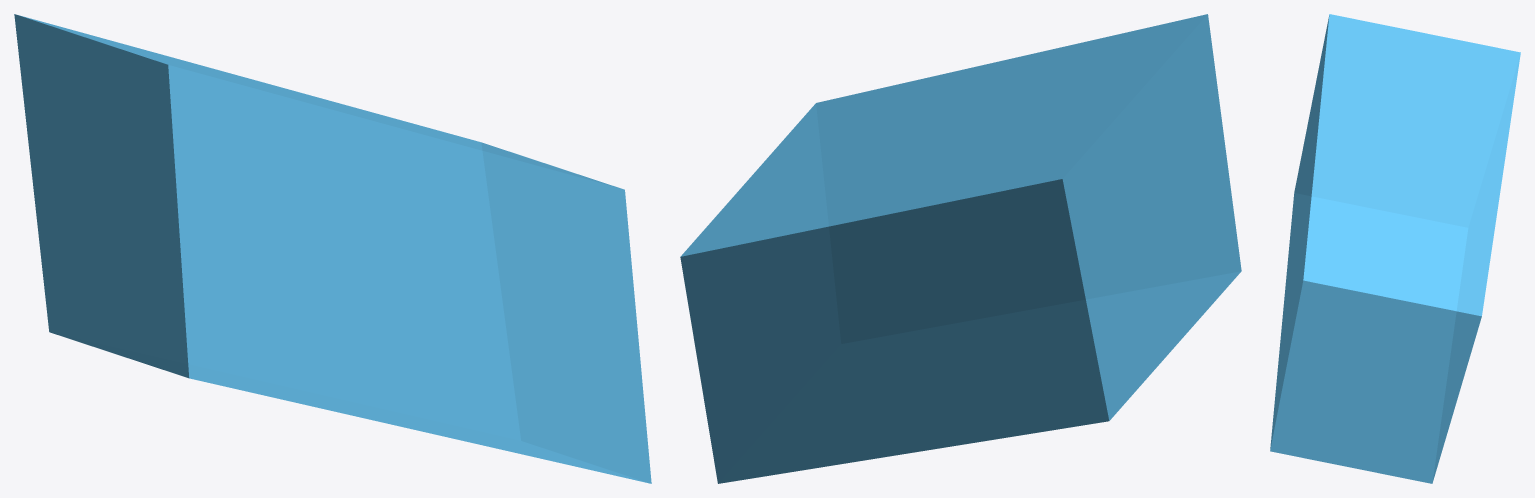
The model's file is Event_421115418_HErechit_79.fbx.
3 views of the same model, side by side, from view 1: azimuth 30°, elevation 25°; view 2: azimuth 150°, elevation 25°; view 3: azimuth 270°, elevation 25° (orthographic). The views are drawn at different scales.
Visible parts, largest first — view 1: Model; view 2: Model; view 3: Model.
Boxes of the visible parts, x1,y1,x2,y2 form: Model: (14,14,651,483); Model: (680,14,1241,483); Model: (1270,14,1520,483).
Bounding box in the file's own units: 0.7918 × 0.9273 × 0.6241.
